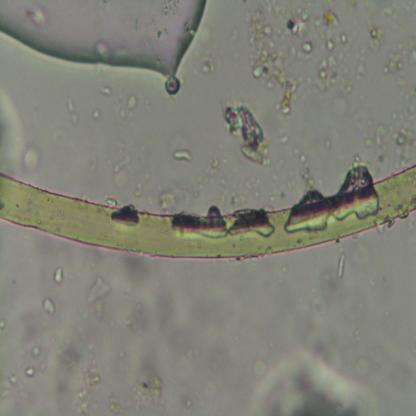Air bubble: (0, 0, 208, 78)
Background material: (242, 0, 360, 114), (244, 348, 380, 416), (150, 289, 208, 361), (221, 98, 271, 164), (364, 111, 416, 168), (194, 143, 246, 196), (115, 288, 150, 359), (74, 356, 106, 416), (0, 92, 24, 165), (384, 37, 416, 88), (129, 368, 166, 412), (83, 271, 114, 322), (119, 256, 151, 290), (306, 272, 330, 312), (24, 342, 48, 379), (108, 139, 136, 168), (296, 154, 314, 198), (364, 20, 387, 53), (268, 161, 284, 207), (158, 183, 184, 211), (21, 144, 42, 172), (0, 373, 20, 402), (53, 124, 74, 148), (118, 95, 139, 119), (112, 163, 131, 189), (65, 92, 79, 124), (39, 295, 57, 318), (335, 248, 347, 280), (164, 77, 181, 96), (173, 149, 193, 164), (53, 267, 66, 285), (202, 56, 214, 74), (100, 86, 113, 97), (92, 109, 101, 120)
Microfibre: (0, 165, 416, 259)
